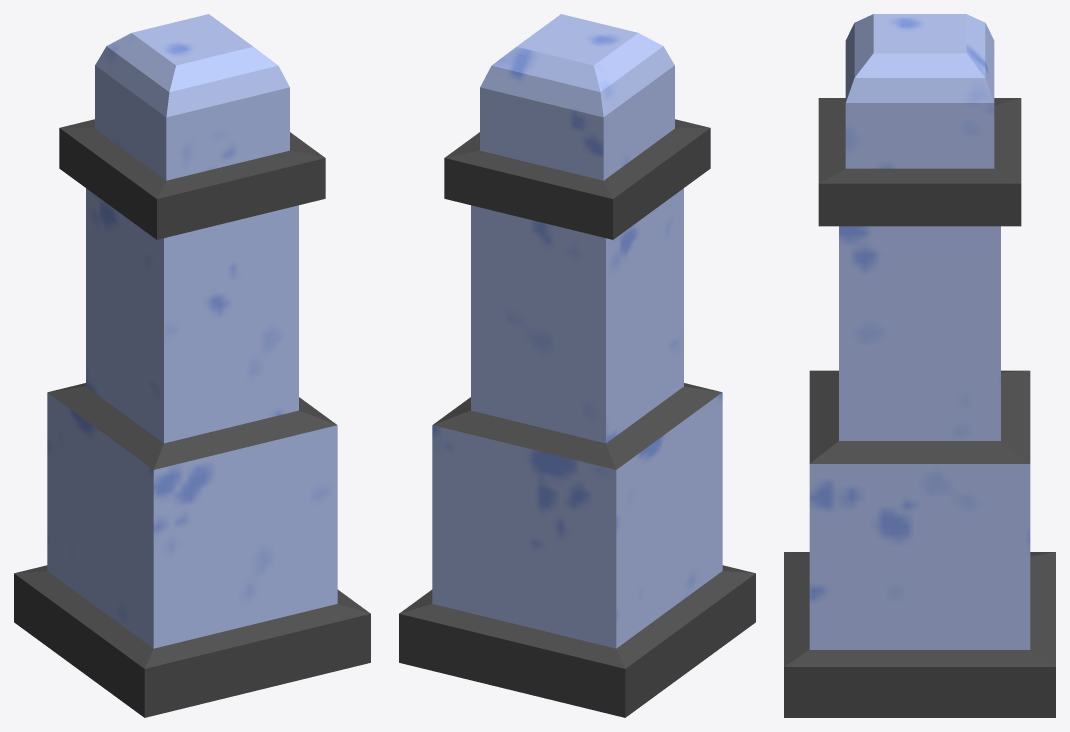
File: Wall_03_Pillar.fbx
3 views of the same model, side by side, from view 1: azimuth 30°, elevation 25°; view 2: azimuth 150°, elevation 25°; view 3: azimuth 270°, elevation 25° (orthographic). The views are drawn at different scales.
Parts seen in each view (by area): view 1: SM_Bld_Wall_Retaining_Pillar_01; view 2: SM_Bld_Wall_Retaining_Pillar_01; view 3: SM_Bld_Wall_Retaining_Pillar_01.
Boxes of the visible parts, x1,y1,x2,y2 form: SM_Bld_Wall_Retaining_Pillar_01: (14, 14, 370, 717); SM_Bld_Wall_Retaining_Pillar_01: (399, 14, 755, 717); SM_Bld_Wall_Retaining_Pillar_01: (784, 14, 1055, 717).
Size of the model in its own units: 65.14 by 166 by 65.14.
